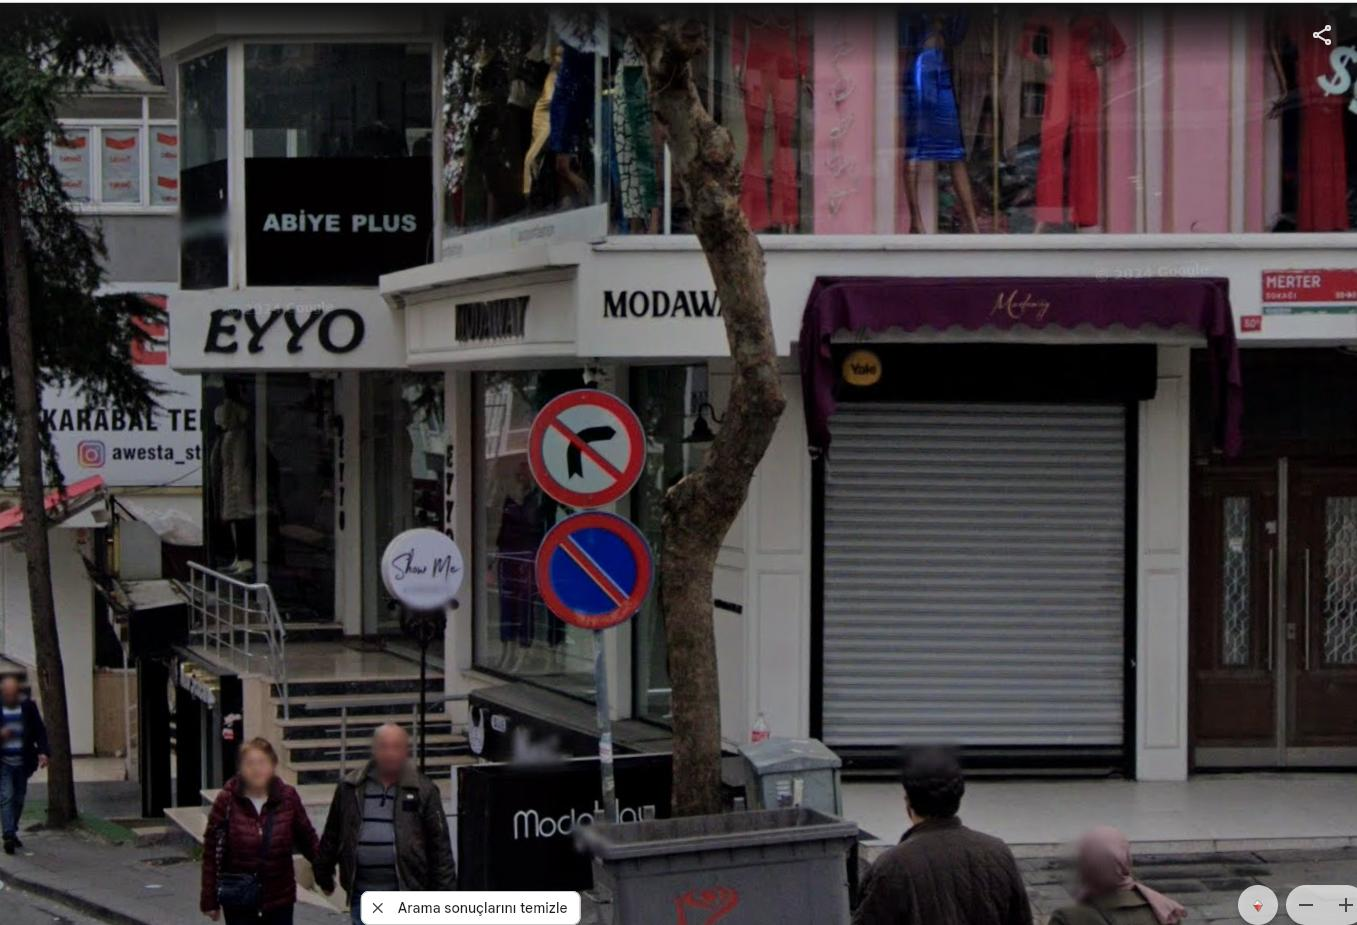rightturnsareforbidden: (533, 398, 638, 503)
